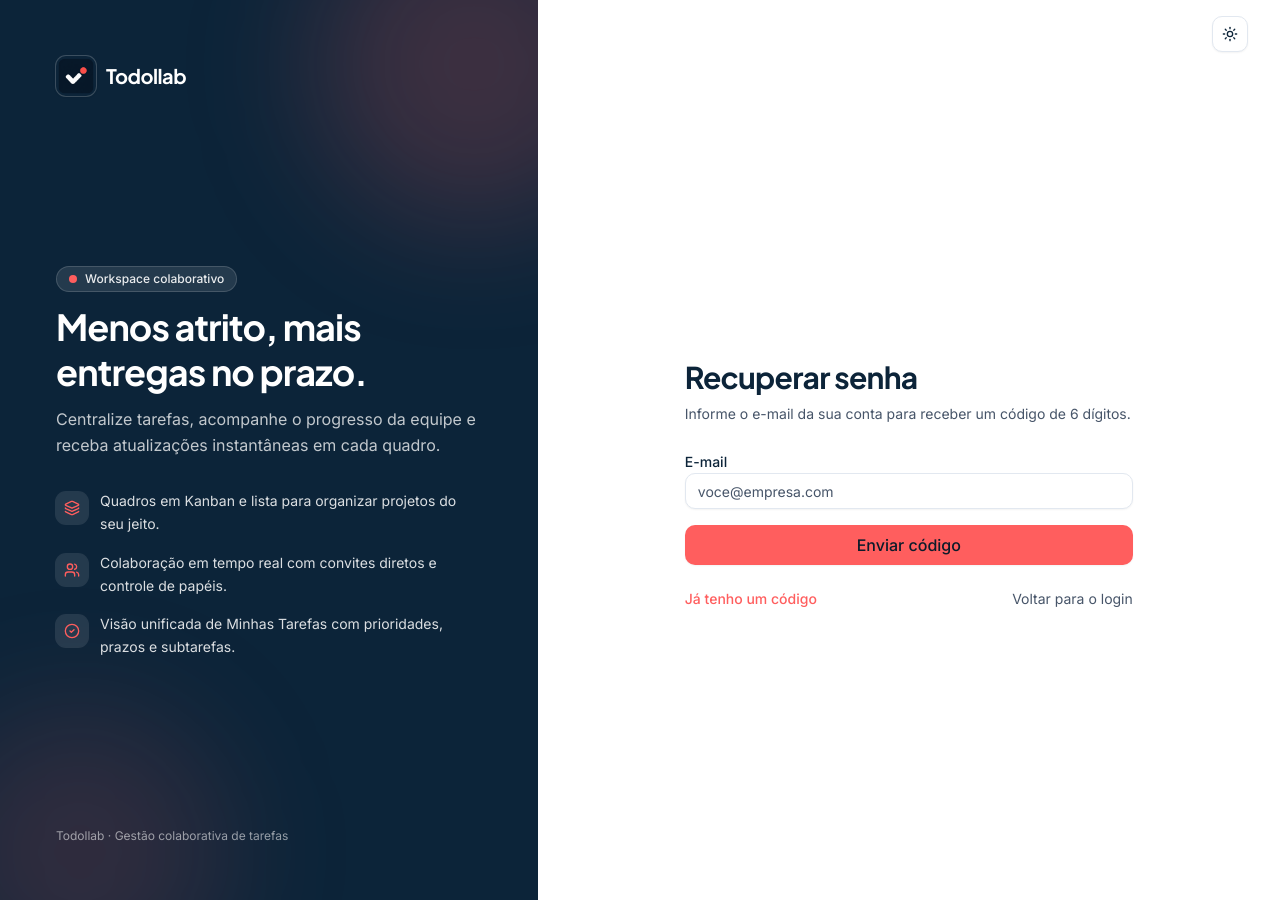
AuthPages › submits ForgotPasswordPage and navigates to /reset-password with encoded email
The image size is (1280, 900).
Type "ana+test@example.com" into the field labelled "E-mail" at (909, 491), box x1=685 y1=473 x2=1133 y2=509
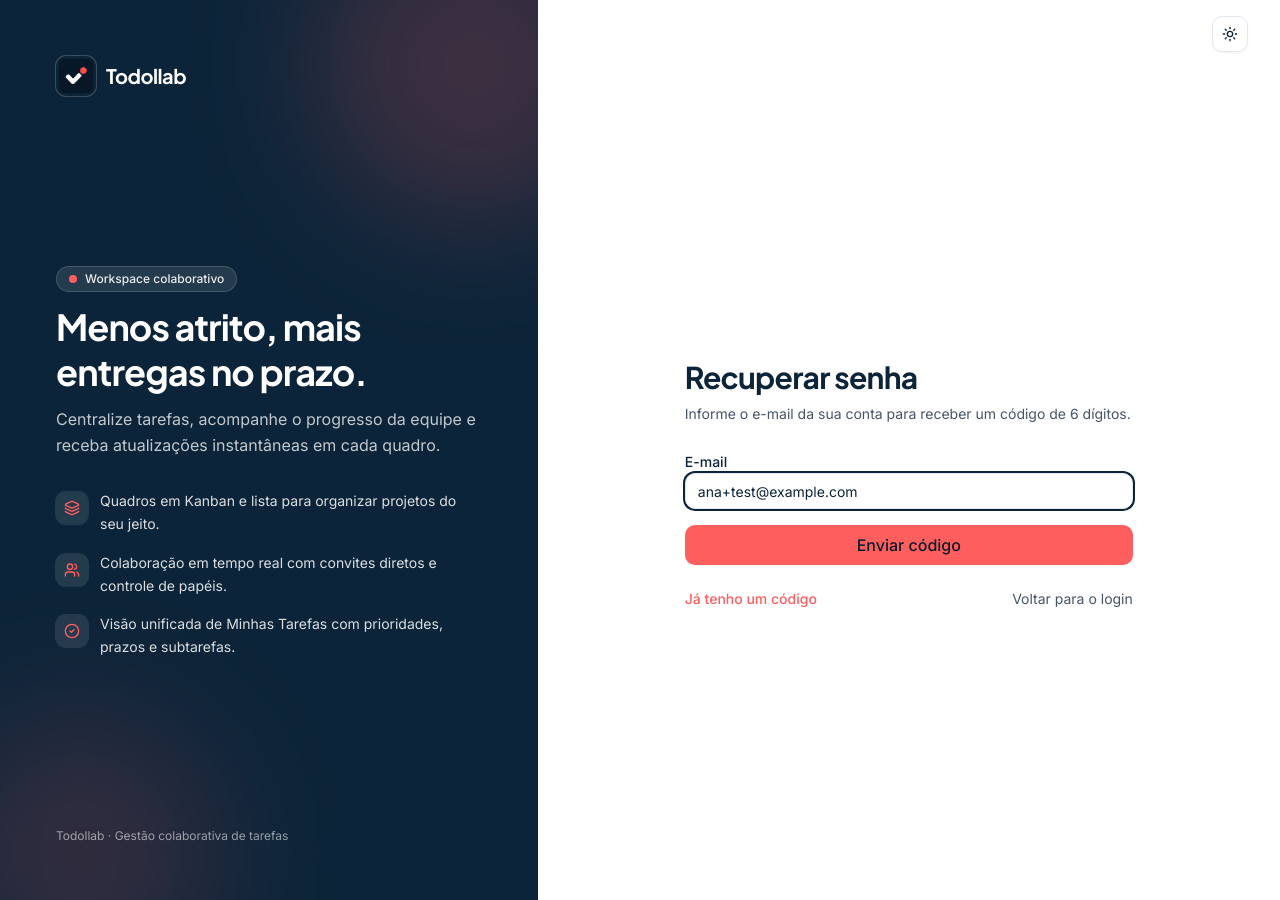
Click the button "Enviar código" at (909, 545), box x1=685 y1=525 x2=1133 y2=565
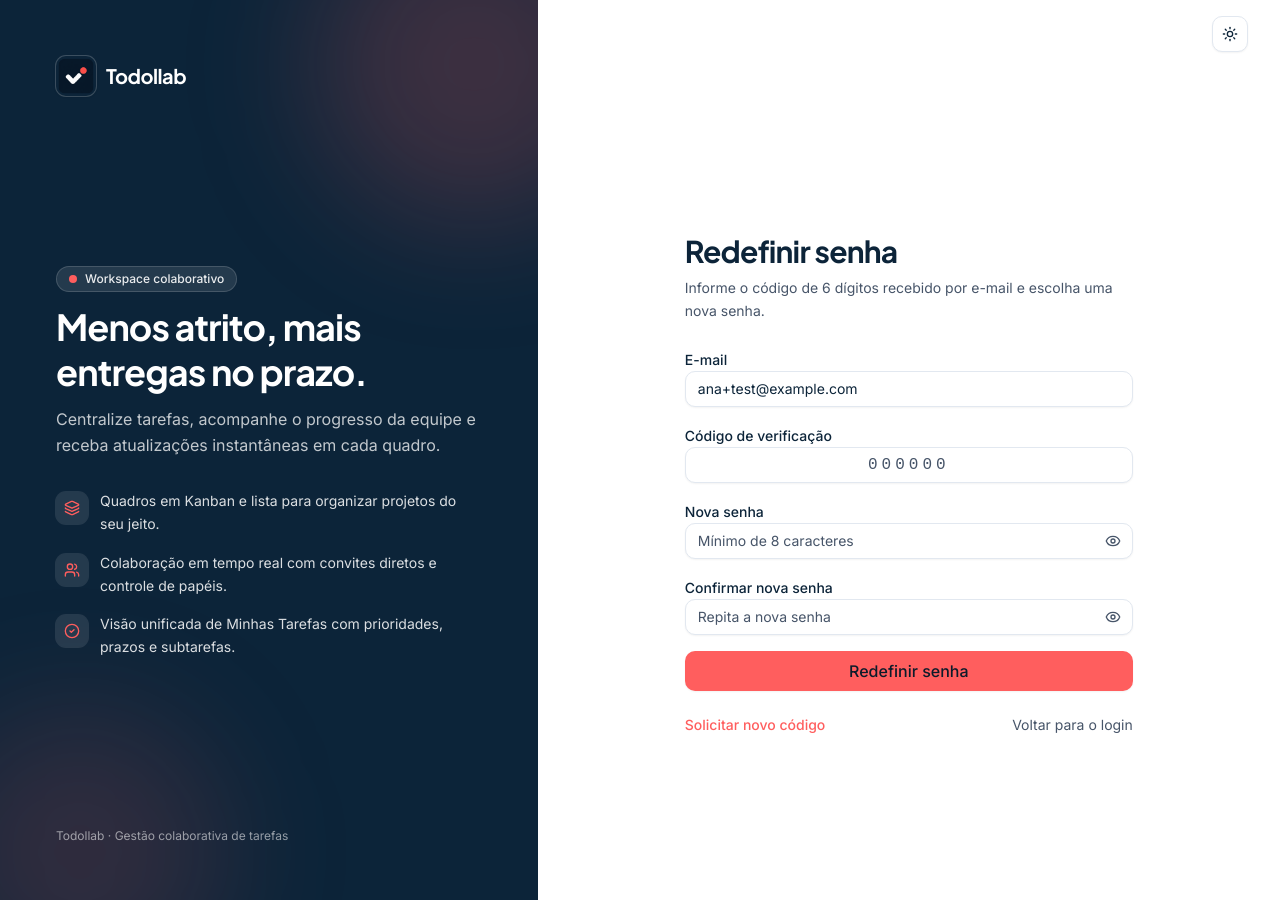
Expected: the field labelled "E-mail" holds "ana+test@example.com", x1=685 y1=371 x2=1133 y2=407
